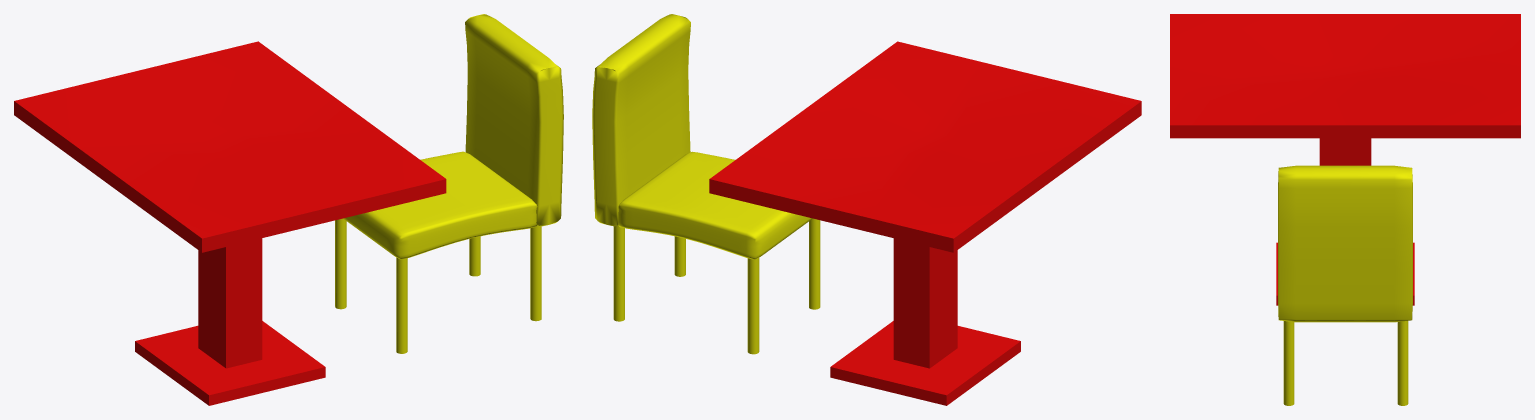
Rendered from OM_Simming_pool_Table_n_chair.fbx.
3 renders of one model, left to right at view 1: azimuth 30°, elevation 25°; view 2: azimuth 150°, elevation 25°; view 3: azimuth 270°, elevation 25°, orthographic. The views are drawn at different scales.
Parts seen in each view (by area): view 1: OM_Simming_pool_Table, OM_Simming_pool_Chair_01, OM_Simming_pool_Chair_02, OM_Simming_pool_Chair_Legs; view 2: OM_Simming_pool_Table, OM_Simming_pool_Chair_01, OM_Simming_pool_Chair_02, OM_Simming_pool_Chair_Legs; view 3: OM_Simming_pool_Table, OM_Simming_pool_Chair_01, OM_Simming_pool_Chair_Legs.
Boxes of the visible parts, box(x1,y1,x2,y2) form: OM_Simming_pool_Table: box(14, 41, 446, 405); OM_Simming_pool_Chair_01: box(465, 14, 563, 226); OM_Simming_pool_Chair_02: box(343, 151, 537, 259); OM_Simming_pool_Chair_Legs: box(335, 218, 541, 353); OM_Simming_pool_Table: box(709, 41, 1141, 405); OM_Simming_pool_Chair_01: box(592, 14, 690, 226); OM_Simming_pool_Chair_02: box(618, 151, 812, 259); OM_Simming_pool_Chair_Legs: box(613, 218, 820, 354); OM_Simming_pool_Table: box(1170, 14, 1520, 305); OM_Simming_pool_Chair_01: box(1278, 165, 1412, 322); OM_Simming_pool_Chair_Legs: box(1283, 321, 1408, 405).
Size of the model in its own units: 8.27 by 4.82 by 6.41.
